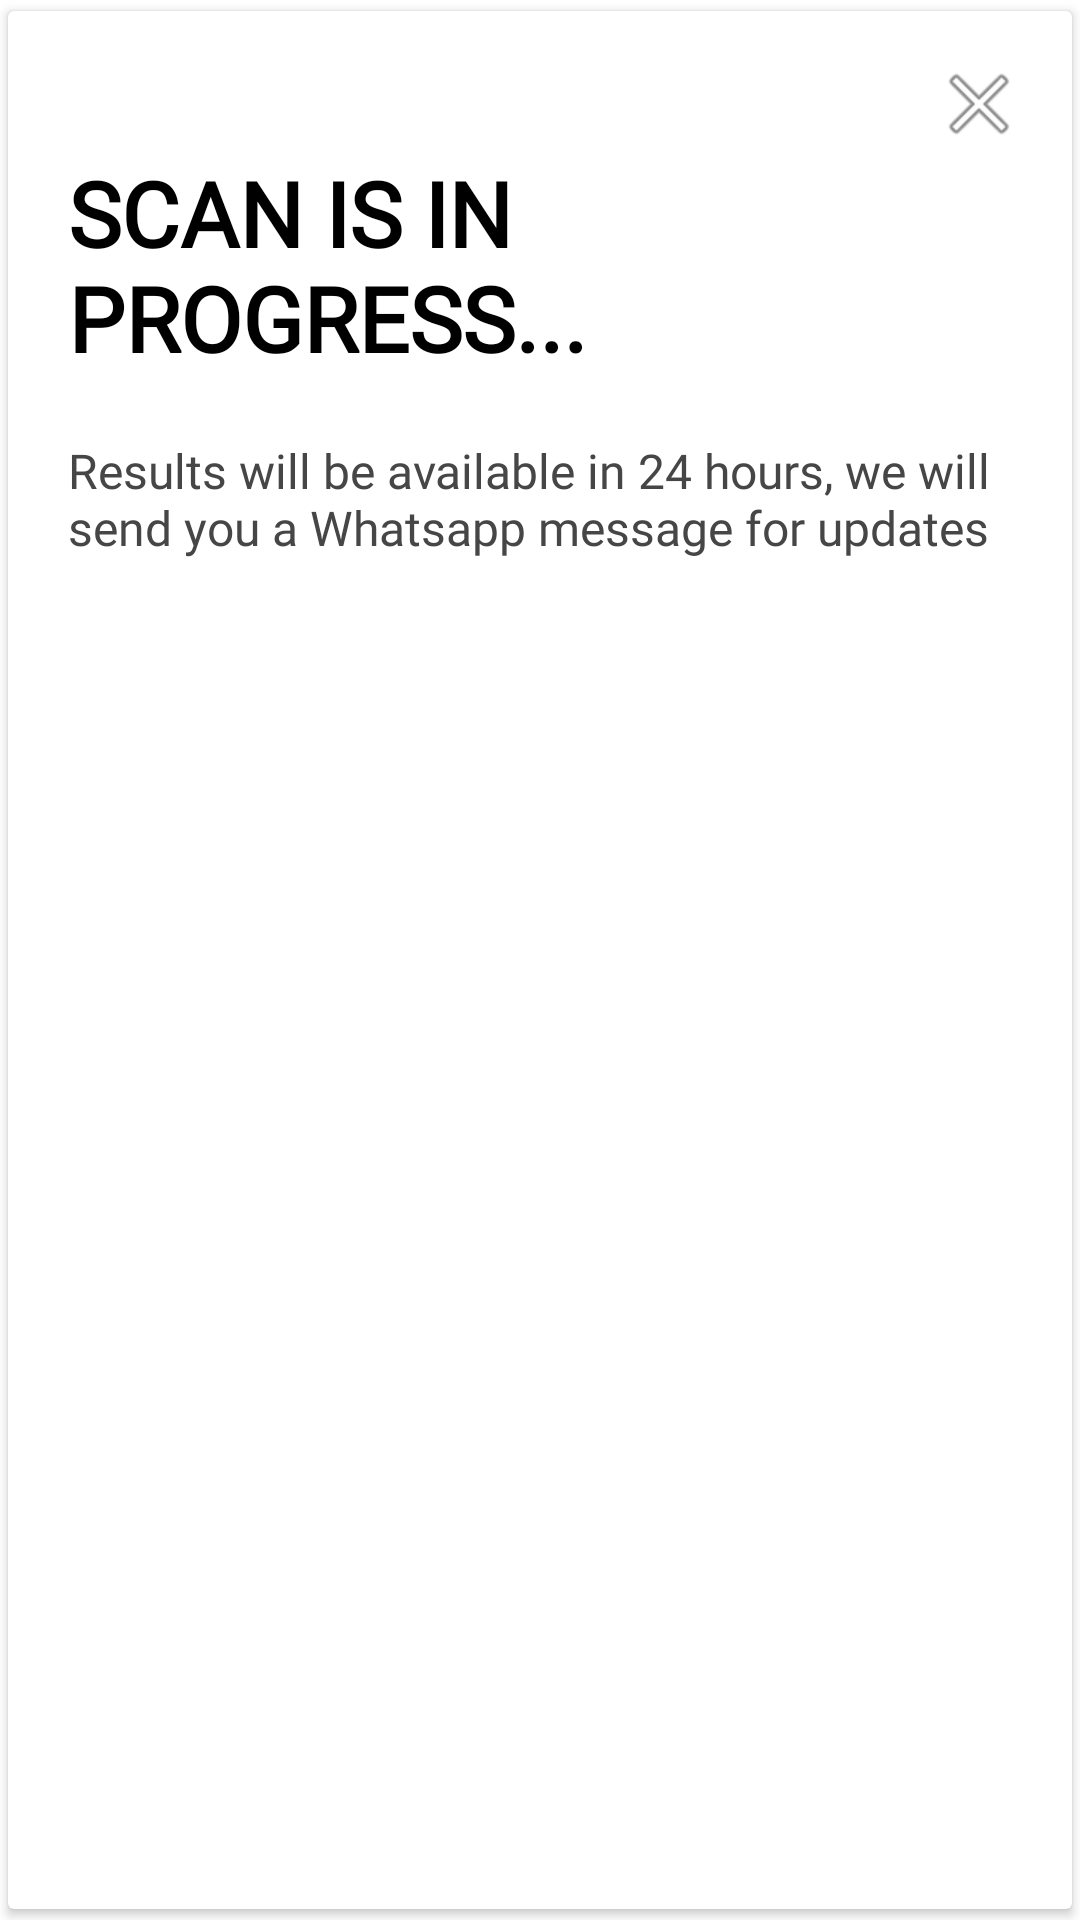

Icon click points for this 1080×1920 phone screenshot, format point (x, y):
close clear cancel: point (979, 104)
